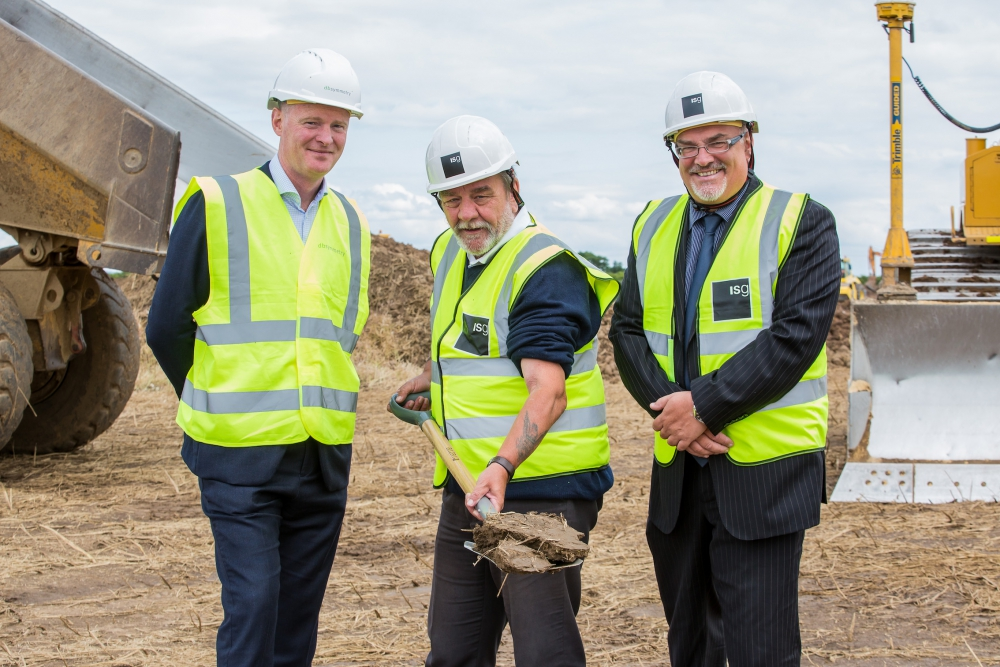Helmet: (262, 41, 385, 194), (653, 68, 777, 217), (418, 109, 539, 255)
Reflective vest: (167, 167, 368, 448), (629, 193, 834, 464), (421, 216, 622, 487)
